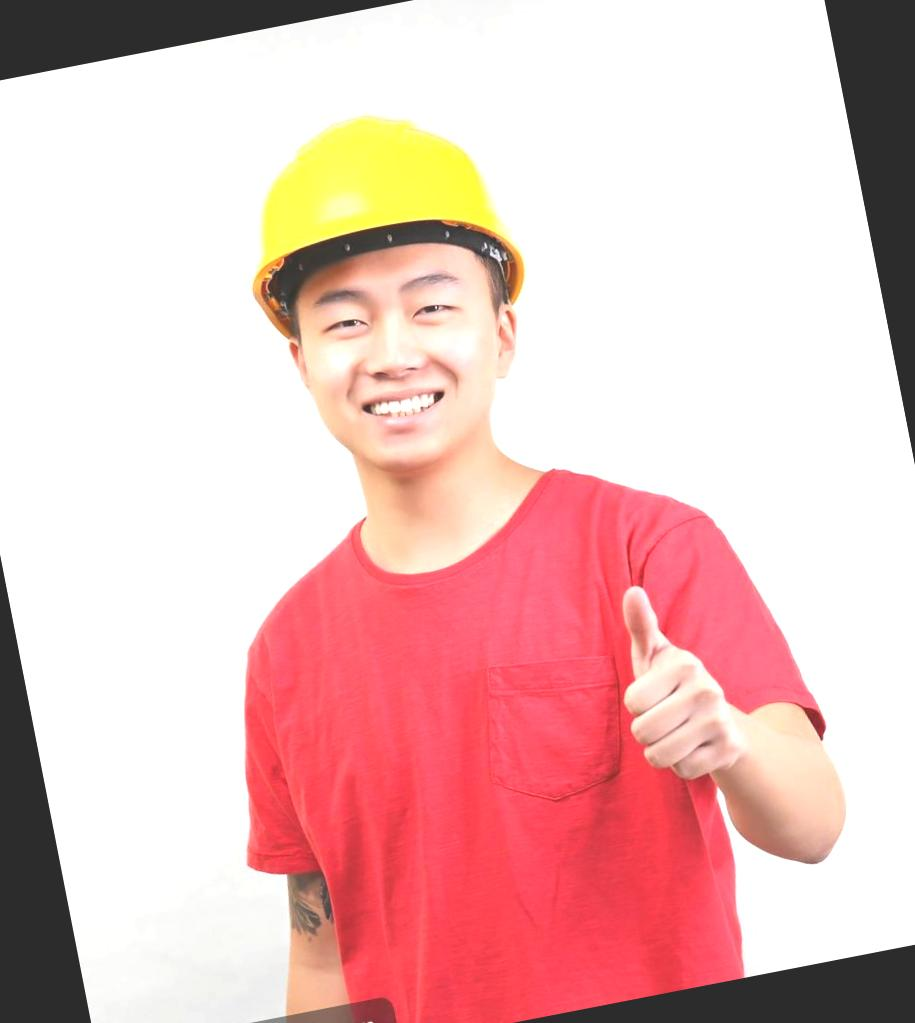helmet: (210, 92, 546, 364)
no_vest: (195, 413, 853, 1023)
person: (91, 52, 881, 1023)
